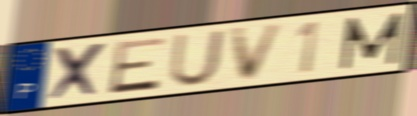1: (295, 19, 321, 75)
E: (106, 35, 169, 96)
M: (338, 10, 406, 72)
U: (167, 28, 228, 88)
V: (229, 21, 288, 84)
X: (47, 40, 110, 104)
